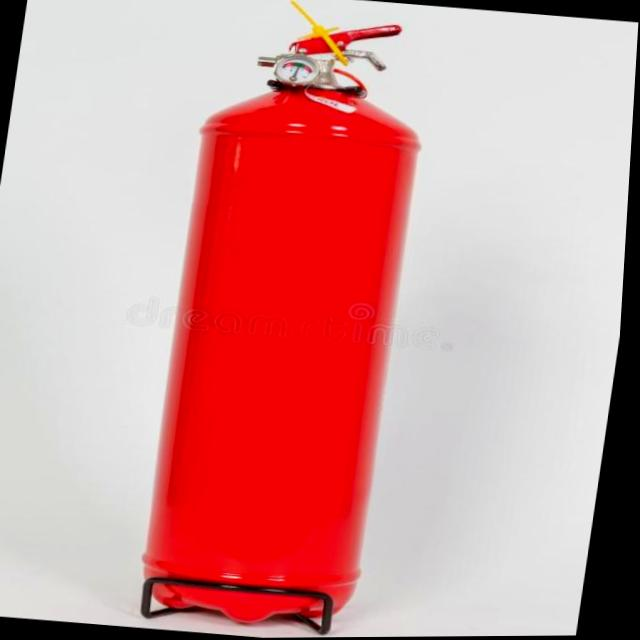FireExtinguisher: (129, 0, 452, 635)
